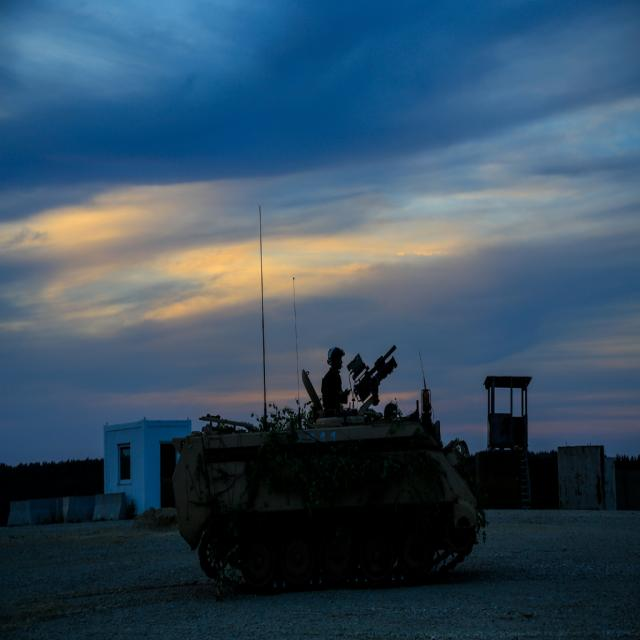tank: (170, 202, 487, 592)
